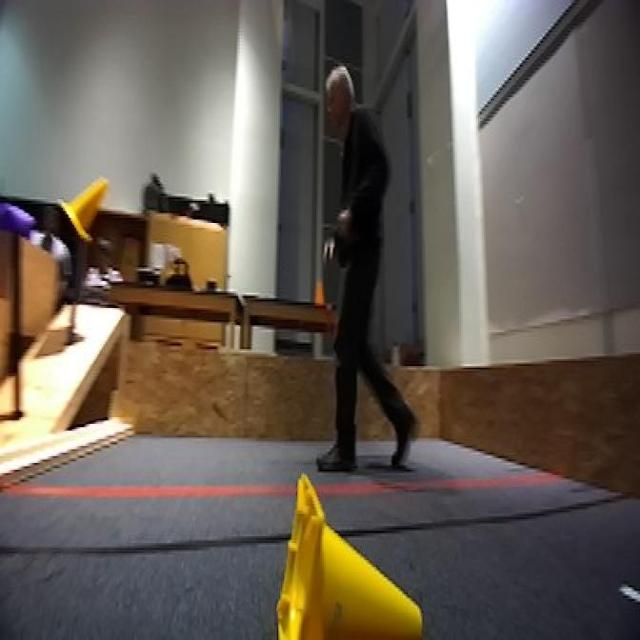frc_cone: (264, 459, 432, 640), (58, 174, 112, 246)
frc_cube: (0, 201, 30, 242)
